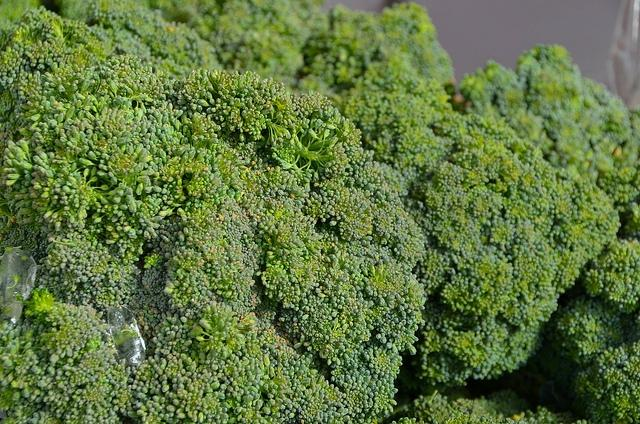broccoli: (393, 114, 618, 394), (448, 42, 640, 184), (342, 60, 456, 188), (186, 0, 308, 94), (70, 0, 222, 70), (545, 296, 626, 369), (575, 340, 640, 424), (326, 3, 386, 84), (580, 234, 640, 314), (440, 386, 529, 421), (42, 68, 84, 104)
